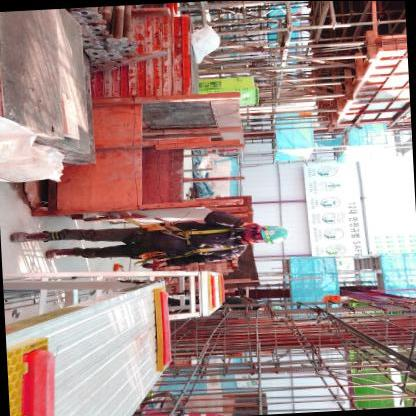safety-shoe: (8, 224, 53, 244), (38, 245, 78, 262)
